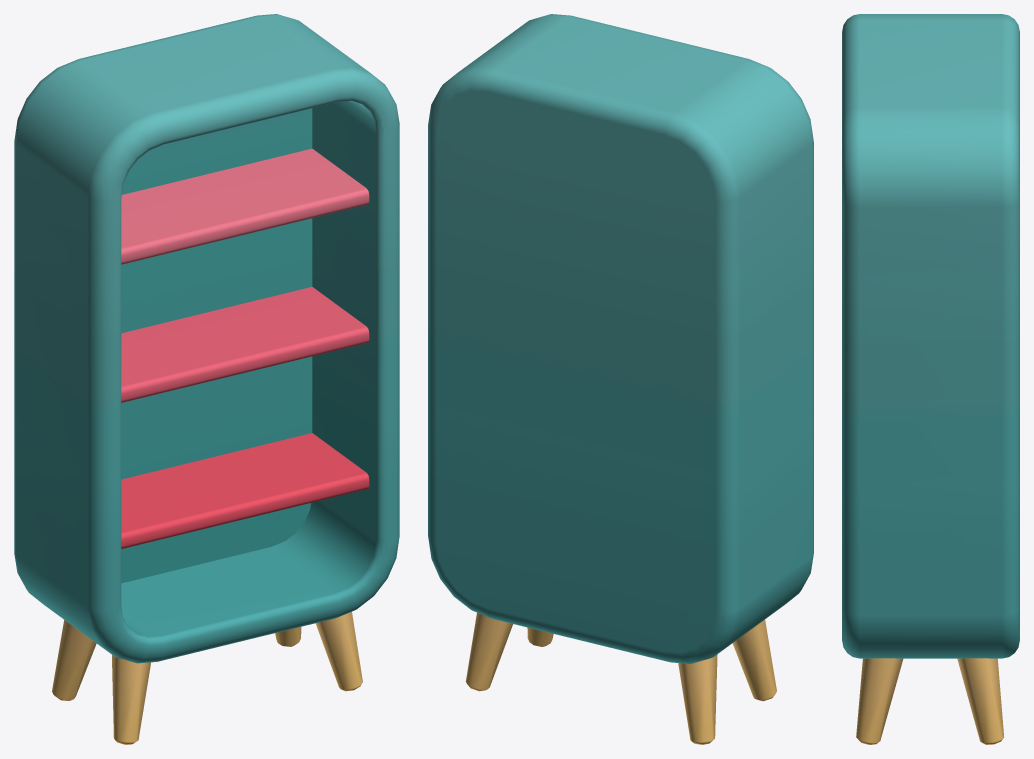
File: Closet_04.glb
3 views of the same model, side by side, from view 1: azimuth 30°, elevation 25°; view 2: azimuth 150°, elevation 25°; view 3: azimuth 270°, elevation 25° (orthographic).
Parts seen in each view (by area): view 1: Closet_04; view 2: Closet_04; view 3: Closet_04.
Boxes of the visible parts, x1,y1,x2,y2 form: Closet_04: (14, 14, 399, 744); Closet_04: (428, 14, 813, 744); Closet_04: (842, 14, 1019, 744).
Size of the model in its own units: 0.8 by 1.55 by 0.4.
1 material, 1 textured.
